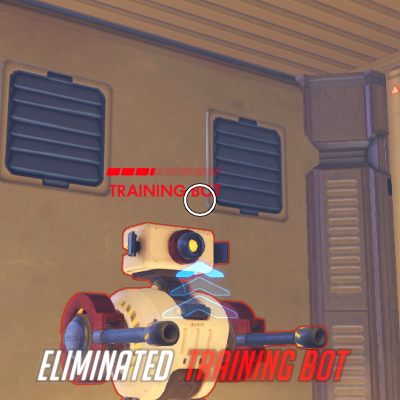hpbar: (106, 167, 222, 176)
